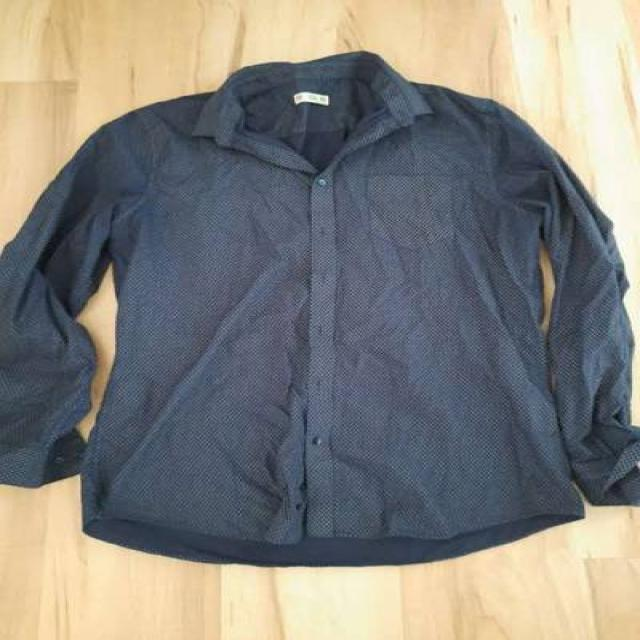non-organik: (0, 28, 637, 587)
